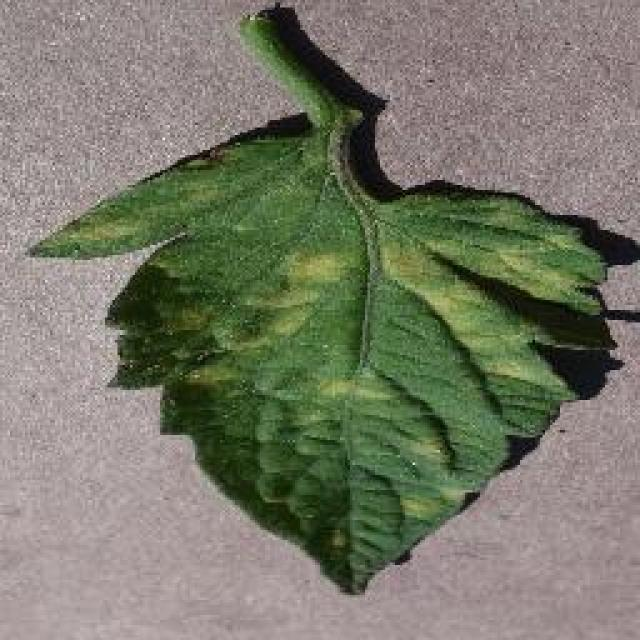Tomato___Leaf_Mold: (32, 12, 610, 590)
